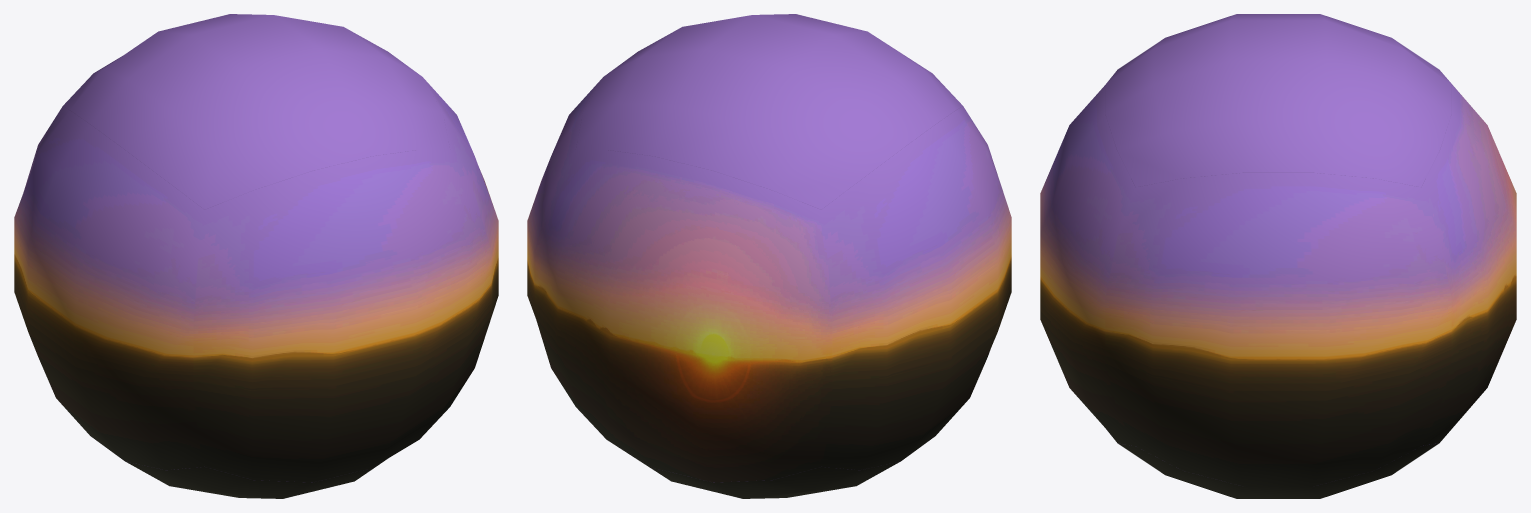
Rendered from CH09_SMAUG_PLAYSURFACE_LONELYMOUNTAIN_SKYBOX.fbx.
The picture shows the model from 3 angles, left to right: view 1: azimuth 30°, elevation 25°; view 2: azimuth 150°, elevation 25°; view 3: azimuth 270°, elevation 25°; orthographic projection.
Visible parts, largest first — view 1: CH09_SMAUG_PLAYSURFACE_LONELYMOUNTAIN_SKYBOX; view 2: CH09_SMAUG_PLAYSURFACE_LONELYMOUNTAIN_SKYBOX; view 3: CH09_SMAUG_PLAYSURFACE_LONELYMOUNTAIN_SKYBOX.
Boxes of the visible parts, x1,y1,x2,y2 form: CH09_SMAUG_PLAYSURFACE_LONELYMOUNTAIN_SKYBOX: (14, 14, 498, 498); CH09_SMAUG_PLAYSURFACE_LONELYMOUNTAIN_SKYBOX: (527, 14, 1011, 498); CH09_SMAUG_PLAYSURFACE_LONELYMOUNTAIN_SKYBOX: (1040, 14, 1516, 498).
Size of the model in its own units: 528872 by 528872 by 528872.
Materials: 8 (8 with a texture image).
